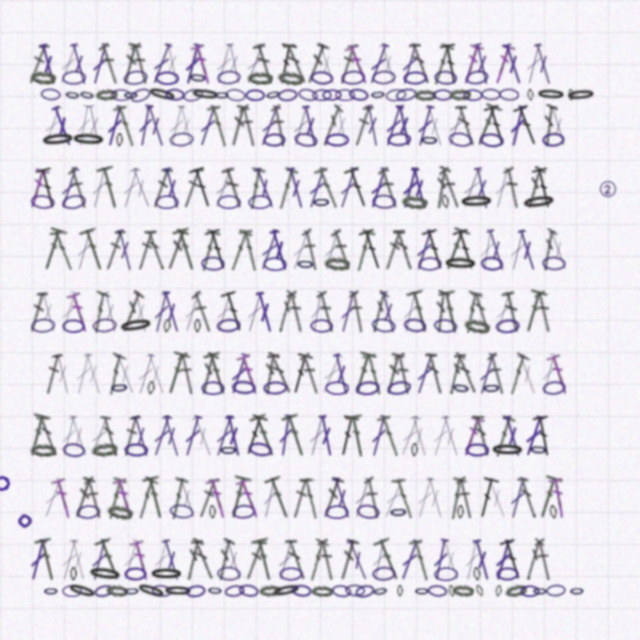chain: (118, 316, 154, 335), (521, 193, 557, 211), (87, 565, 123, 583), (66, 581, 98, 601), (135, 581, 167, 601), (40, 131, 76, 148), (146, 85, 178, 104), (271, 582, 302, 599), (71, 132, 106, 147), (459, 194, 494, 209), (443, 256, 478, 271), (463, 317, 491, 335), (106, 503, 134, 521), (490, 443, 525, 457), (149, 567, 184, 581), (293, 131, 319, 149), (61, 193, 87, 211), (386, 379, 412, 397), (190, 87, 221, 102), (91, 441, 118, 458), (247, 441, 273, 458), (277, 70, 304, 86), (401, 194, 428, 210), (123, 69, 148, 86), (448, 131, 473, 148), (371, 317, 396, 334), (169, 503, 194, 520), (566, 88, 596, 102), (129, 86, 152, 104), (465, 69, 489, 86), (403, 317, 427, 334), (356, 503, 380, 520), (504, 582, 528, 599), (479, 132, 504, 148), (30, 194, 55, 210), (433, 318, 458, 334), (495, 318, 520, 334), (355, 380, 380, 396), (76, 504, 101, 520), (30, 70, 56, 85), (536, 88, 566, 101), (324, 256, 350, 271), (310, 70, 334, 86), (542, 380, 566, 396), (62, 442, 86, 458), (169, 132, 194, 147), (92, 318, 117, 333), (216, 318, 241, 333), (231, 380, 256, 395), (247, 71, 273, 85), (30, 443, 56, 457), (62, 70, 86, 85), (217, 70, 241, 85), (341, 70, 365, 85), (372, 70, 396, 85), (387, 132, 411, 147), (372, 194, 396, 209), (201, 256, 225, 271), (480, 256, 504, 271), (542, 256, 566, 271), (31, 318, 55, 333), (217, 566, 241, 581), (372, 566, 396, 581), (163, 585, 193, 597), (182, 87, 204, 103), (297, 87, 319, 103), (93, 583, 115, 599), (354, 583, 376, 599), (434, 70, 457, 85), (542, 132, 565, 147), (232, 504, 255, 519), (155, 71, 179, 85), (403, 71, 427, 85), (325, 133, 349, 147), (155, 195, 179, 209), (217, 195, 241, 209), (248, 195, 272, 209), (263, 257, 287, 271), (418, 257, 442, 271), (201, 381, 225, 395), (263, 381, 287, 395), (325, 381, 349, 395), (124, 443, 148, 457), (465, 443, 489, 457), (325, 505, 349, 519), (279, 567, 303, 581), (434, 567, 458, 581), (395, 87, 417, 102), (263, 133, 286, 147), (62, 319, 85, 333), (310, 319, 333, 333), (124, 567, 147, 581), (496, 567, 519, 581), (451, 380, 471, 396), (348, 87, 369, 102), (238, 583, 259, 598), (385, 88, 407, 102), (188, 70, 208, 85), (95, 88, 118, 101), (225, 88, 246, 102), (277, 88, 298, 102), (151, 584, 172, 598), (185, 584, 206, 598), (224, 584, 245, 598), (331, 584, 352, 598), (427, 584, 448, 598), (449, 88, 471, 101), (106, 584, 128, 597), (259, 584, 281, 597), (452, 584, 474, 597), (110, 380, 129, 395), (529, 442, 548, 457), (40, 88, 61, 101), (291, 584, 312, 597), (264, 87, 282, 102), (420, 133, 439, 147), (312, 195, 331, 209), (296, 257, 315, 271), (482, 381, 501, 395), (219, 443, 238, 457), (389, 505, 408, 519), (414, 89, 436, 101), (311, 585, 333, 597), (165, 88, 185, 101), (481, 88, 501, 101), (499, 88, 519, 101), (345, 584, 365, 597), (546, 584, 566, 597), (78, 88, 96, 102), (111, 89, 131, 101), (245, 89, 265, 101), (312, 89, 332, 101), (322, 89, 342, 101), (335, 89, 355, 101), (433, 89, 453, 101), (463, 89, 483, 101), (62, 585, 82, 597), (520, 585, 540, 597), (64, 88, 81, 102), (372, 584, 389, 598), (370, 88, 386, 101), (207, 584, 223, 597), (123, 89, 139, 101), (214, 89, 230, 101), (43, 585, 59, 597), (124, 585, 140, 597), (414, 585, 430, 597), (532, 585, 548, 597), (569, 585, 585, 597), (441, 194, 450, 209), (475, 584, 485, 597), (549, 505, 558, 519), (163, 319, 171, 333), (147, 381, 155, 395), (473, 567, 481, 581), (116, 133, 123, 147), (194, 319, 201, 333), (411, 443, 418, 457), (209, 505, 216, 519), (457, 505, 464, 519), (70, 567, 77, 581), (448, 585, 456, 597), (527, 89, 534, 101), (495, 585, 502, 597), (568, 89, 574, 101), (397, 585, 403, 597)
double: (471, 103, 503, 148), (249, 413, 281, 458), (94, 537, 126, 582), (373, 537, 405, 582), (512, 103, 543, 148), (440, 227, 471, 272), (264, 475, 295, 520), (343, 165, 373, 210), (38, 227, 68, 272), (79, 227, 109, 272), (281, 413, 311, 458), (188, 165, 217, 210), (172, 227, 201, 272), (358, 227, 387, 272), (162, 351, 191, 396), (203, 351, 232, 396), (240, 413, 269, 458), (534, 475, 563, 520), (224, 228, 253, 272), (317, 352, 346, 396), (379, 476, 408, 520), (483, 103, 511, 148), (96, 165, 124, 210), (204, 227, 232, 272), (421, 227, 449, 272), (452, 227, 480, 272), (220, 289, 248, 334), (406, 289, 434, 334), (520, 289, 548, 334), (349, 351, 377, 396), (499, 537, 527, 582), (344, 42, 372, 86), (427, 42, 455, 86), (127, 166, 155, 210), (251, 166, 279, 210), (313, 166, 341, 210), (49, 228, 77, 272), (111, 352, 139, 396), (189, 414, 217, 458), (396, 414, 424, 458), (235, 476, 263, 520), (483, 476, 511, 520), (344, 538, 372, 582), (24, 413, 51, 458), (142, 475, 169, 520), (225, 475, 252, 520), (34, 537, 61, 582), (251, 537, 278, 582), (117, 290, 145, 333), (55, 42, 82, 86), (148, 42, 175, 86), (241, 42, 268, 86), (303, 42, 330, 86), (365, 42, 392, 86), (39, 104, 66, 148), (49, 104, 76, 148), (256, 104, 283, 148), (210, 166, 237, 210), (272, 166, 299, 210), (458, 166, 485, 210), (163, 228, 190, 272), (256, 228, 283, 272), (287, 228, 314, 272), (545, 228, 572, 272), (287, 352, 314, 396), (504, 352, 531, 396), (514, 352, 541, 396), (86, 414, 113, 458), (489, 414, 516, 458), (39, 476, 66, 520), (396, 538, 423, 582), (252, 42, 278, 86), (490, 42, 516, 86), (500, 42, 526, 86), (112, 104, 138, 148), (143, 104, 169, 148), (195, 104, 221, 148), (443, 104, 469, 148), (35, 166, 61, 210), (56, 166, 82, 210), (221, 166, 247, 210), (304, 166, 330, 210), (335, 166, 361, 210), (531, 166, 557, 210), (195, 228, 221, 272), (350, 228, 376, 272), (66, 290, 92, 334), (438, 290, 464, 334), (143, 352, 169, 396), (226, 352, 252, 396), (236, 352, 262, 396), (412, 352, 438, 396), (546, 352, 572, 396), (66, 414, 92, 458), (149, 414, 175, 458), (211, 414, 237, 458), (376, 414, 402, 458), (459, 414, 485, 458), (521, 414, 547, 458), (133, 476, 159, 520), (174, 476, 200, 520), (319, 476, 345, 520), (329, 476, 355, 520), (391, 476, 417, 520), (474, 476, 500, 520), (304, 538, 330, 582), (438, 538, 464, 582), (267, 352, 293, 395), (190, 42, 215, 86), (314, 42, 339, 86), (376, 42, 401, 86), (459, 42, 484, 86), (531, 42, 556, 86), (381, 104, 406, 148), (422, 104, 447, 148), (546, 104, 571, 148), (25, 166, 50, 210), (118, 166, 143, 210), (366, 166, 391, 210), (267, 228, 292, 272), (412, 228, 437, 272), (484, 228, 509, 272), (515, 228, 540, 272), (159, 290, 184, 334), (180, 290, 205, 334), (242, 290, 267, 334), (81, 352, 106, 396), (133, 352, 158, 396), (159, 414, 184, 458), (180, 414, 205, 458), (335, 414, 360, 458), (345, 414, 370, 458), (407, 414, 432, 458), (428, 414, 453, 458), (438, 414, 463, 458), (500, 414, 525, 458), (71, 476, 96, 520), (102, 476, 127, 520), (112, 476, 137, 520), (205, 476, 230, 520), (350, 476, 375, 520), (118, 538, 143, 582), (159, 538, 184, 582), (221, 538, 246, 582), (283, 42, 308, 85), (319, 104, 344, 147), (438, 166, 463, 209), (190, 290, 215, 333), (36, 42, 60, 86), (67, 42, 91, 86), (88, 42, 112, 86), (212, 42, 236, 86), (274, 42, 298, 86), (398, 42, 422, 86), (439, 42, 463, 86), (103, 104, 127, 148), (206, 104, 230, 148), (289, 104, 313, 148), (413, 104, 437, 148), (160, 166, 184, 210), (284, 166, 308, 210), (398, 166, 422, 210), (72, 228, 96, 272), (113, 228, 137, 272), (320, 228, 344, 272), (36, 290, 60, 334), (57, 290, 81, 334), (212, 290, 236, 334), (253, 290, 277, 334), (336, 290, 360, 334), (491, 290, 515, 334), (103, 352, 127, 396), (361, 352, 385, 396), (475, 352, 499, 396), (129, 414, 153, 458), (305, 414, 329, 458), (367, 414, 391, 458), (532, 414, 556, 458), (51, 476, 75, 520), (165, 476, 189, 520), (413, 476, 437, 520), (423, 476, 447, 520), (506, 476, 530, 520), (26, 538, 50, 582), (57, 538, 81, 582), (129, 538, 153, 582), (274, 538, 298, 582), (336, 538, 360, 582), (408, 538, 432, 582), (470, 538, 494, 582), (491, 538, 515, 582), (26, 42, 50, 85), (377, 166, 401, 209), (522, 166, 546, 209), (330, 228, 354, 271), (454, 352, 478, 395), (36, 414, 60, 457), (196, 476, 220, 519), (191, 538, 215, 581), (243, 538, 267, 581), (119, 42, 142, 86), (181, 42, 204, 86), (522, 42, 545, 86), (165, 104, 188, 148), (175, 104, 198, 148), (227, 104, 250, 148), (299, 104, 322, 148), (506, 104, 529, 148), (88, 166, 111, 210), (243, 166, 266, 210), (408, 166, 431, 210), (491, 166, 514, 210), (506, 228, 529, 272), (88, 290, 111, 334), (150, 290, 173, 334), (377, 290, 400, 334), (460, 290, 483, 334), (501, 290, 524, 334), (51, 352, 74, 396), (72, 352, 95, 396), (330, 352, 353, 396), (382, 352, 405, 396), (537, 352, 560, 396), (57, 414, 80, 458), (222, 414, 245, 458), (299, 476, 322, 520), (444, 476, 467, 520), (67, 538, 90, 582), (88, 538, 111, 582), (150, 538, 173, 582), (98, 42, 121, 85), (67, 166, 90, 209), (150, 166, 173, 209), (181, 166, 204, 209), (103, 228, 126, 271), (144, 228, 167, 271), (382, 228, 405, 271), (274, 290, 297, 333), (196, 352, 219, 395), (299, 352, 322, 395), (181, 538, 204, 581), (522, 538, 545, 581), (471, 42, 493, 86), (471, 166, 493, 210), (238, 228, 260, 272), (99, 290, 121, 334), (130, 290, 152, 334), (399, 290, 421, 334), (259, 476, 281, 520), (461, 538, 483, 582), (161, 42, 183, 85), (223, 42, 245, 85), (337, 42, 359, 85), (409, 42, 431, 85), (83, 104, 105, 147), (352, 104, 374, 147), (393, 104, 415, 147), (135, 228, 157, 271), (368, 290, 390, 333), (486, 352, 508, 395), (83, 476, 105, 519), (517, 476, 539, 519), (213, 538, 235, 581), (285, 538, 307, 581), (368, 538, 390, 581), (130, 42, 151, 85), (73, 104, 94, 147), (135, 104, 156, 147), (238, 104, 259, 147), (331, 104, 352, 147), (362, 104, 383, 147), (455, 104, 476, 147), (393, 228, 414, 271), (27, 290, 48, 333), (316, 290, 337, 333), (471, 290, 492, 333), (259, 352, 280, 395), (445, 352, 466, 395), (316, 414, 337, 457), (290, 476, 311, 519), (455, 476, 476, 519), (548, 476, 569, 519), (430, 538, 451, 581), (431, 166, 451, 209), (301, 228, 321, 271), (477, 228, 497, 271), (286, 290, 306, 333), (307, 290, 327, 333), (534, 290, 554, 333), (43, 352, 63, 395), (177, 352, 197, 395), (100, 414, 120, 457), (121, 414, 141, 457), (363, 476, 383, 519), (317, 538, 337, 581), (534, 538, 554, 581), (270, 104, 289, 147), (539, 104, 558, 147), (503, 166, 522, 209), (539, 228, 558, 271), (348, 290, 367, 333), (431, 290, 450, 333), (394, 352, 413, 395), (425, 352, 444, 395), (276, 414, 295, 457), (472, 414, 491, 457)
noise: (597, 178, 619, 200), (16, 512, 34, 530), (0, 474, 12, 493)
